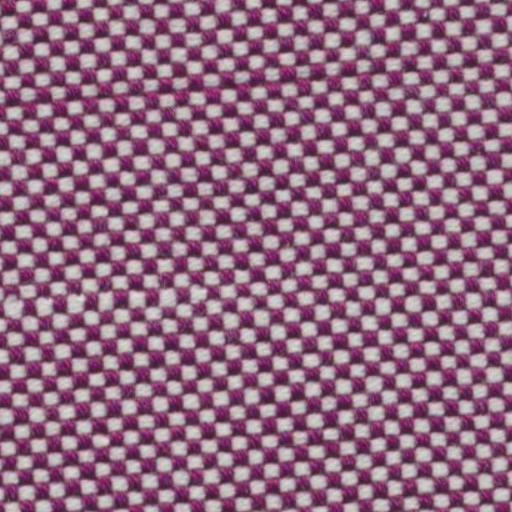TuoSha: (11, 248, 504, 340), (8, 42, 509, 126)
